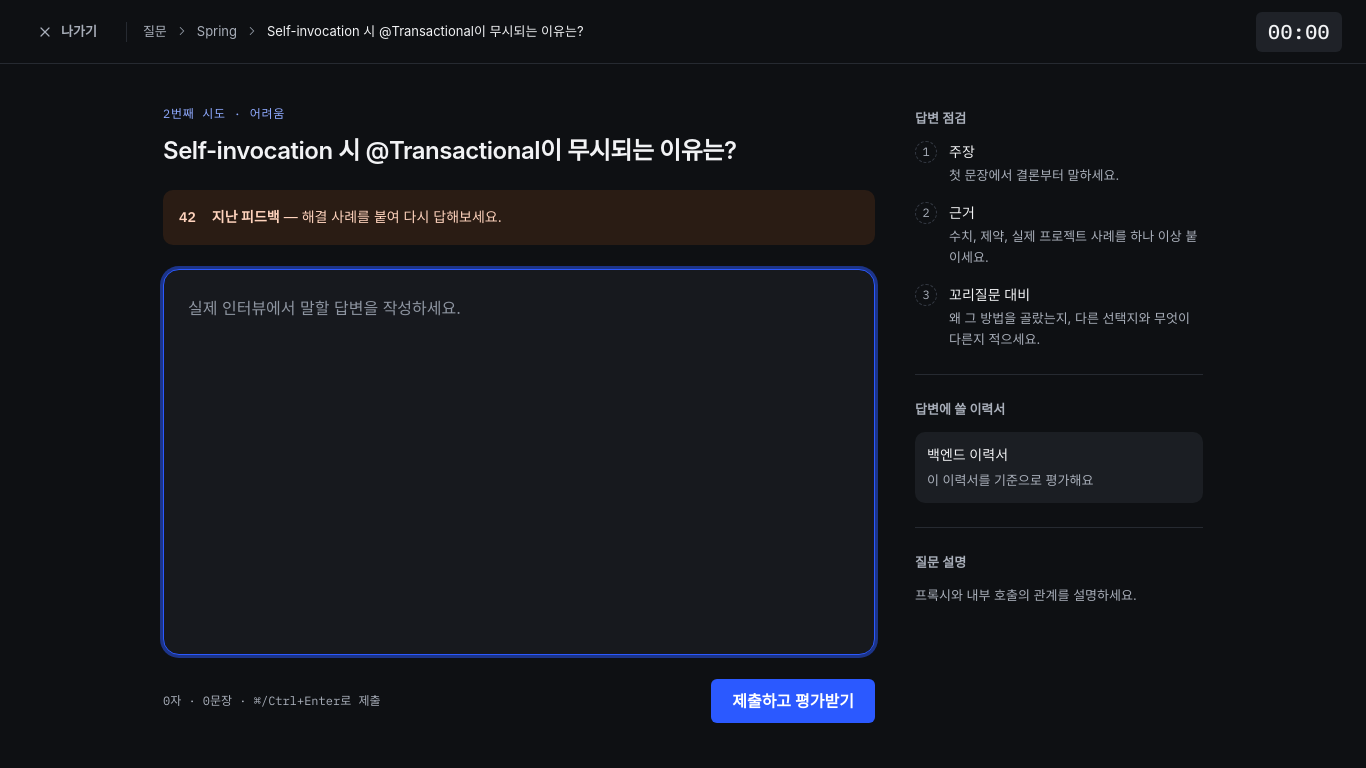
Test case: AnswerEditorPage › blocks empty submissions with an announced error
Click the button "제출하고 평가받기".
click(793, 701)  # box [711, 679, 875, 723]
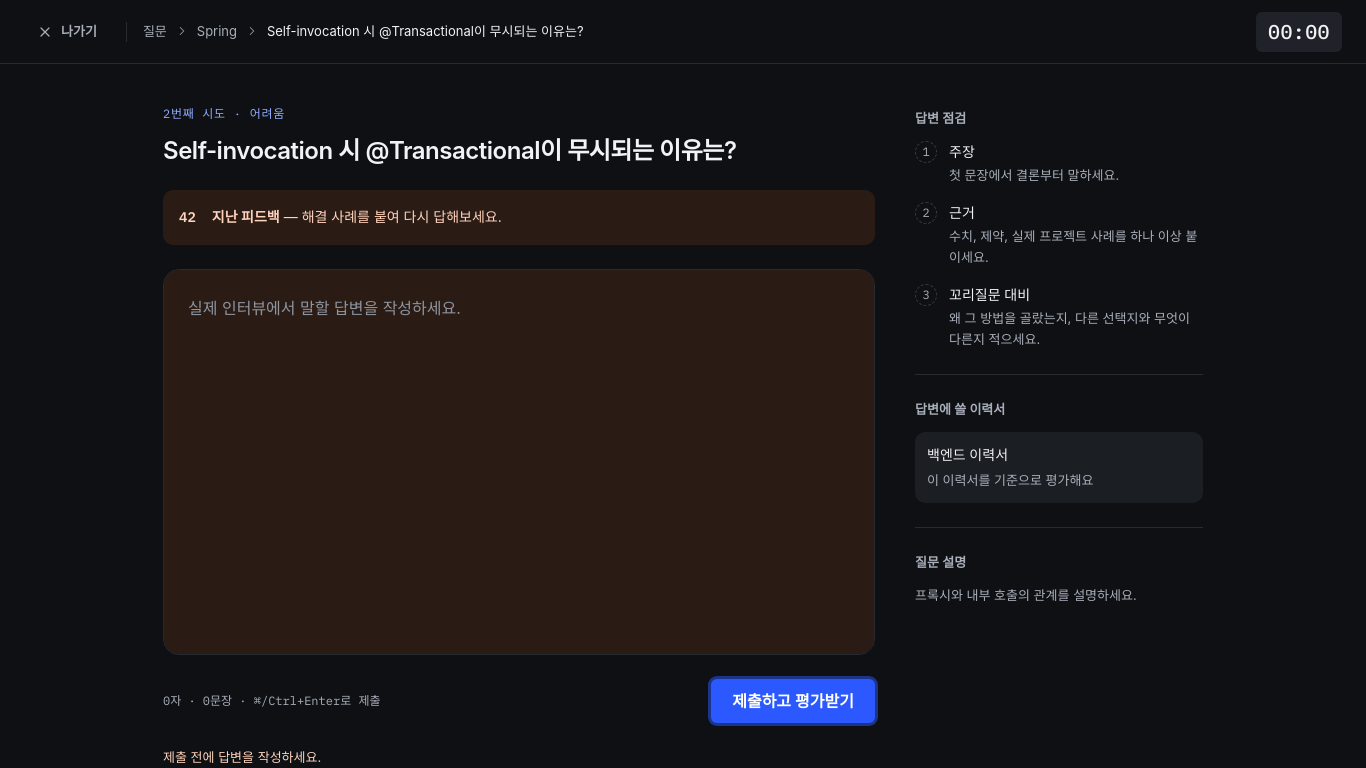
expect the message reads "제출 전에 답변을 작성하세요.": met, box [163, 749, 321, 765]
